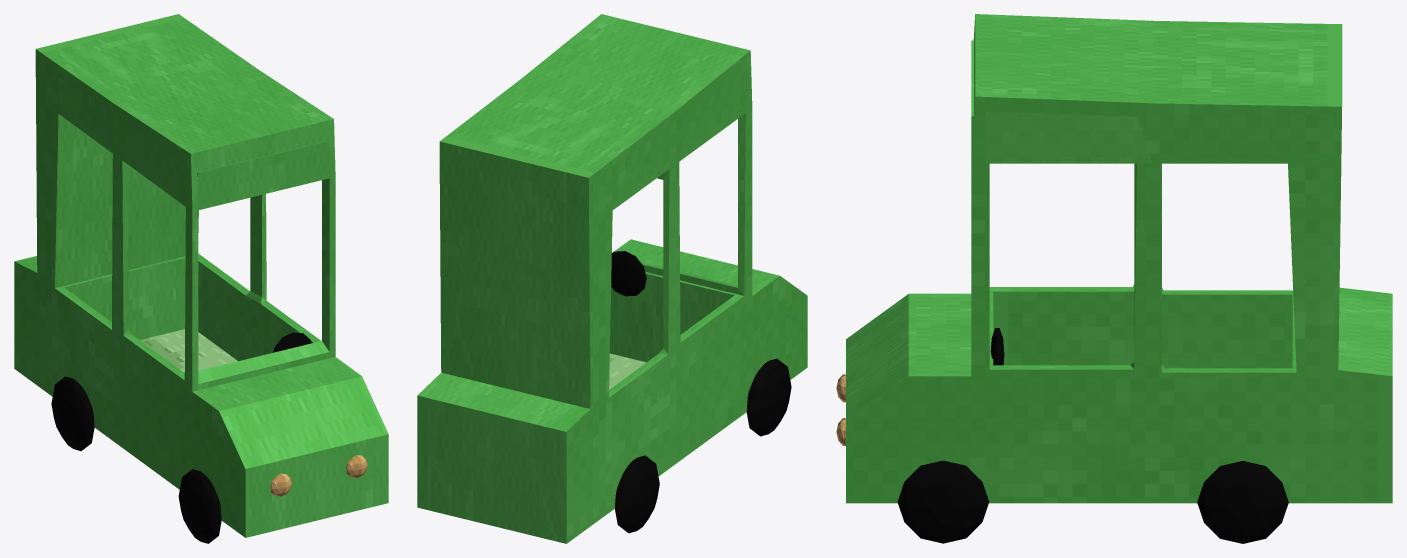
Rendered from Macchina_Verde.fbx.
3 views of the same model, side by side, from view 1: azimuth 30°, elevation 25°; view 2: azimuth 150°, elevation 25°; view 3: azimuth 270°, elevation 25° (orthographic). The views are drawn at different scales.
Parts seen in each view (by area): view 1: Icosphere.009; view 2: Icosphere.009; view 3: Icosphere.009.
Part boxes in pixels (x1,y1,x2,y2): Icosphere.009: (14,14,388,543); Icosphere.009: (417,14,807,543); Icosphere.009: (836,14,1392,543).
Size of the model in its own units: 0.0706 by 0.1489 by 0.1685.
4 materials, 3 textured.
